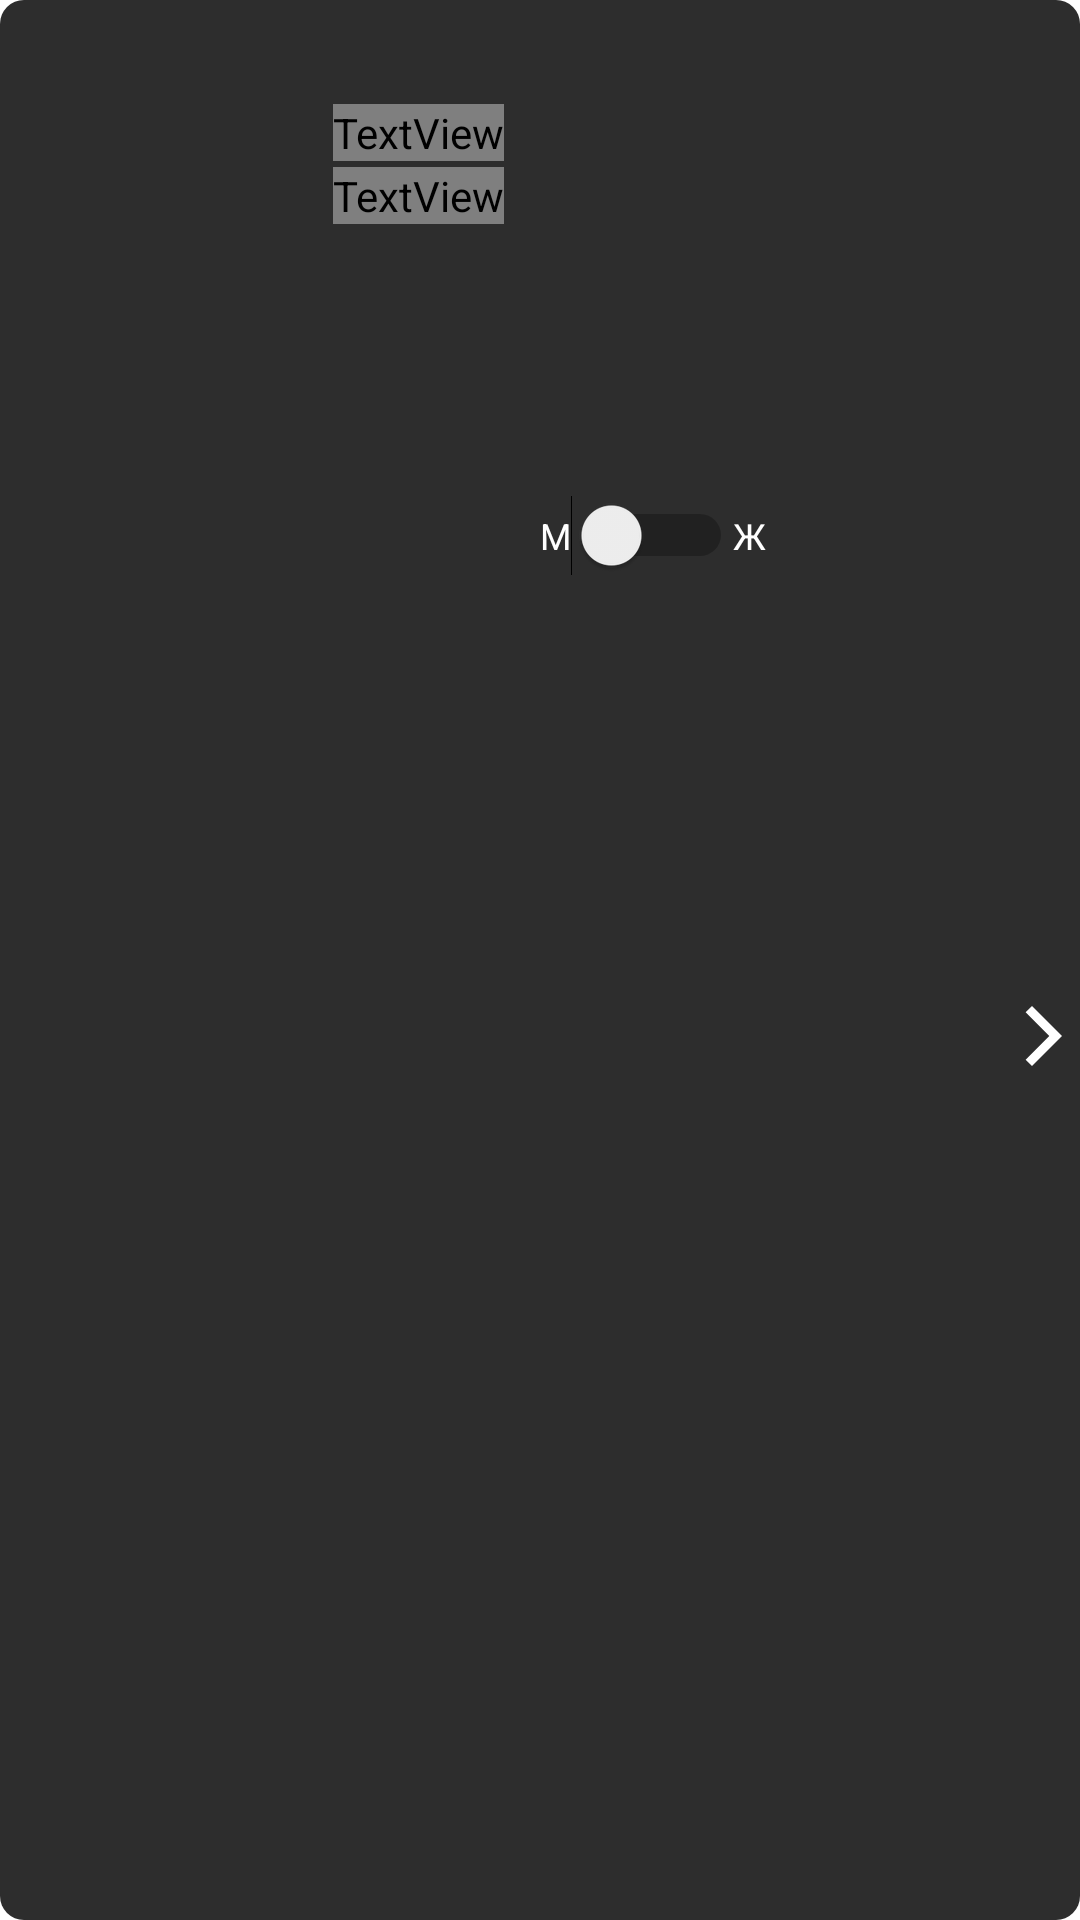

Named icons in this screenshot (1080*1920) and their bounding boxes, {"left": x1, "top": y1, "right": x2, "bottom": y2}:
arrow forward: {"left": 1025, "top": 1006, "right": 1062, "bottom": 1066}
